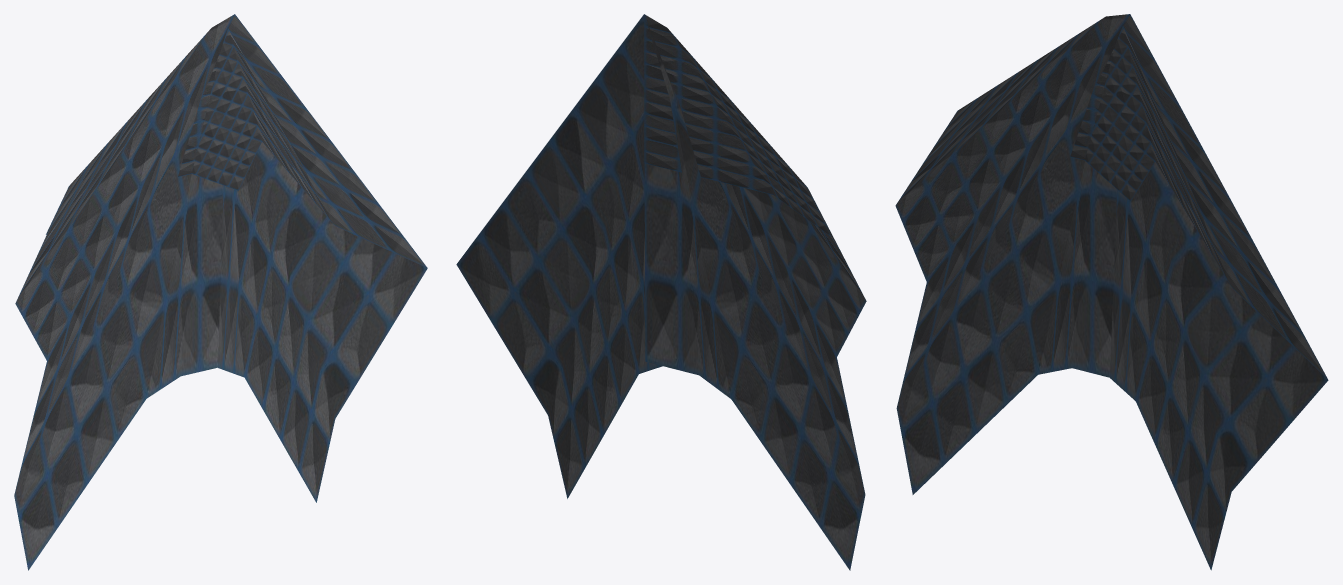
3 renders of one model, left to right at view 1: azimuth 30°, elevation 25°; view 2: azimuth 150°, elevation 25°; view 3: azimuth 330°, elevation 25°, orthographic. The views are drawn at different scales.
Visible parts, largest first — view 1: Origami_Model_52; view 2: Origami_Model_52; view 3: Origami_Model_52.
Part boxes in pixels (<box>): Origami_Model_52: <box>14,14,427,570</box>; Origami_Model_52: <box>456,14,866,570</box>; Origami_Model_52: <box>895,14,1328,570</box>.
Size of the model in its own units: 0.4323 by 0.5087 by 0.0065.
Materials: 1 (1 with a texture image).
